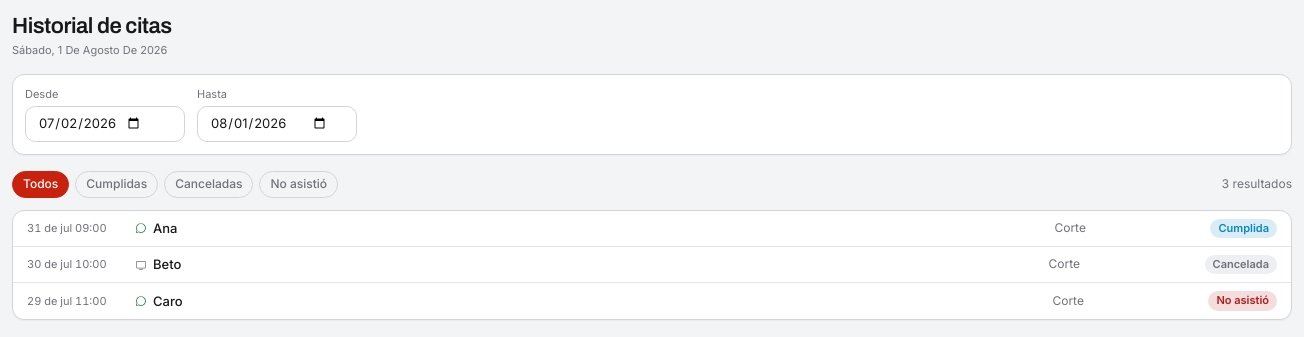
Test: TabHistorialServicios — barbería (citas) › el chip No asistió deja solo el no_show
Expected: the text "Ana" is shown, [153,219,177,238]
What coordinates should you click on to do the following:
click the button "No asistió"
I would click on:
 (299, 184)
Its box is [260,171,338,198].
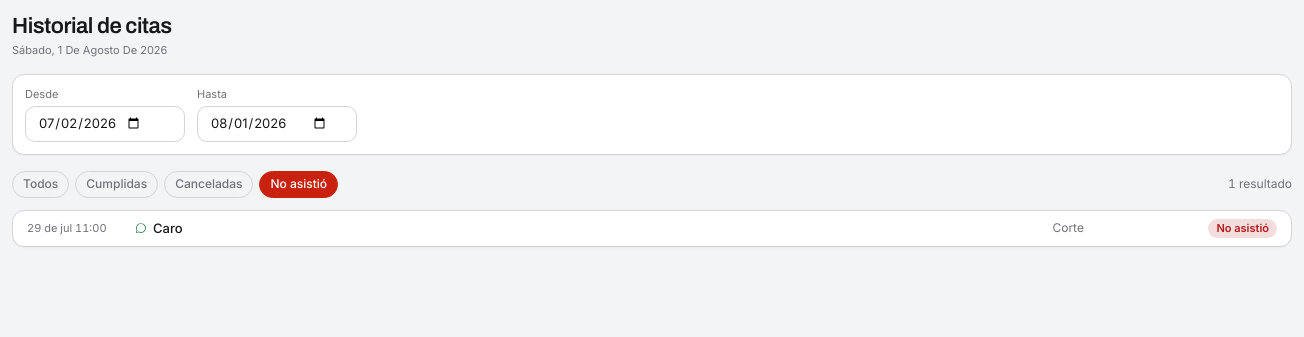
Expected: the text "Caro" is shown, [153,219,183,238]
Result: the text "Ana" is gone
Result: the text "Beto" is gone
